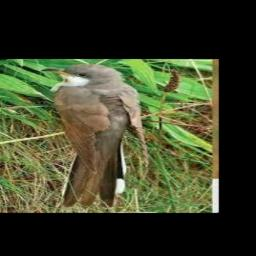Cuckoo: (41, 64, 143, 205)
